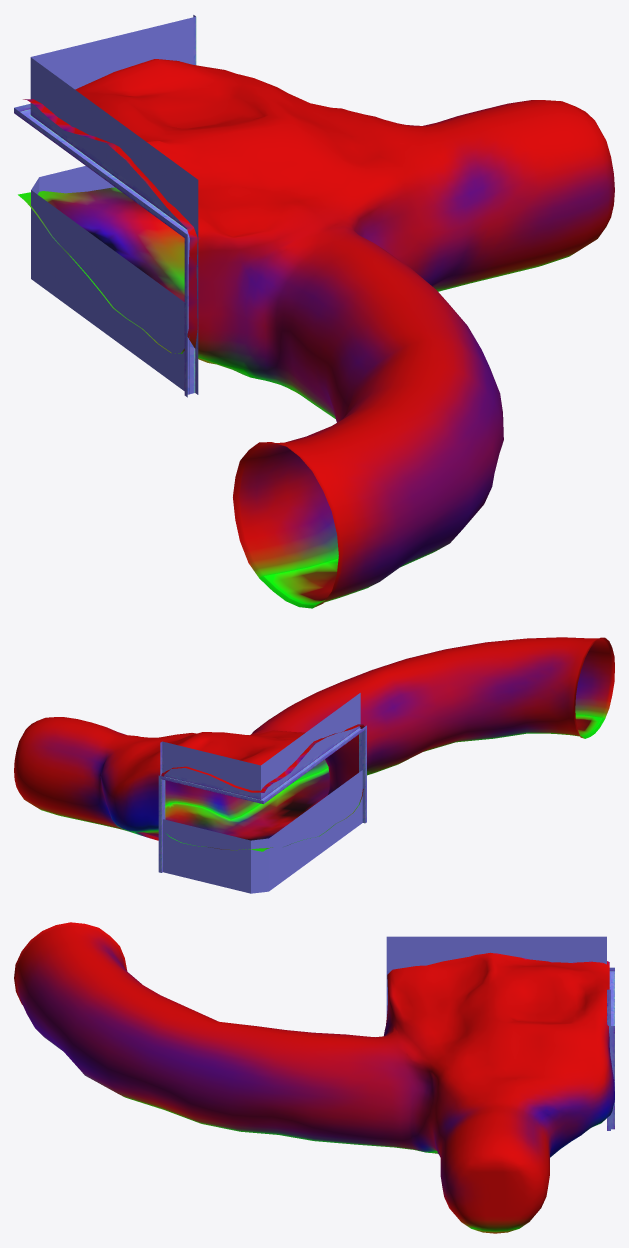
Rendered from Level_01_Terrain_Tunnel_A.fbx.
3 views of the same model, one above another, from view 1: azimuth 30°, elevation 25°; view 2: azimuth 150°, elevation 25°; view 3: azimuth 270°, elevation 25° (orthographic). The views are drawn at different scales.
Parts seen in each view (by area): view 1: Geometry_Level_01_Terrain_Tunnel_A_LOD00, Geometry_Level_01_Terrain_Tunnel_A_Walls_LOD00; view 2: Geometry_Level_01_Terrain_Tunnel_A_LOD00, Geometry_Level_01_Terrain_Tunnel_A_Walls_LOD00; view 3: Geometry_Level_01_Terrain_Tunnel_A_LOD00, Geometry_Level_01_Terrain_Tunnel_A_Walls_LOD00.
Boxes of the visible parts, left/top/right/bottom form: Geometry_Level_01_Terrain_Tunnel_A_LOD00: left=18, top=59, right=614, bottom=608; Geometry_Level_01_Terrain_Tunnel_A_Walls_LOD00: left=14, top=15, right=198, bottom=397; Geometry_Level_01_Terrain_Tunnel_A_LOD00: left=14, top=637, right=614, bottom=851; Geometry_Level_01_Terrain_Tunnel_A_Walls_LOD00: left=158, top=693, right=366, bottom=893; Geometry_Level_01_Terrain_Tunnel_A_LOD00: left=14, top=922, right=614, bottom=1233; Geometry_Level_01_Terrain_Tunnel_A_Walls_LOD00: left=386, top=936, right=614, bottom=1130.
Bounding box in the file's own units: 6089 × 2222 × 7569.
